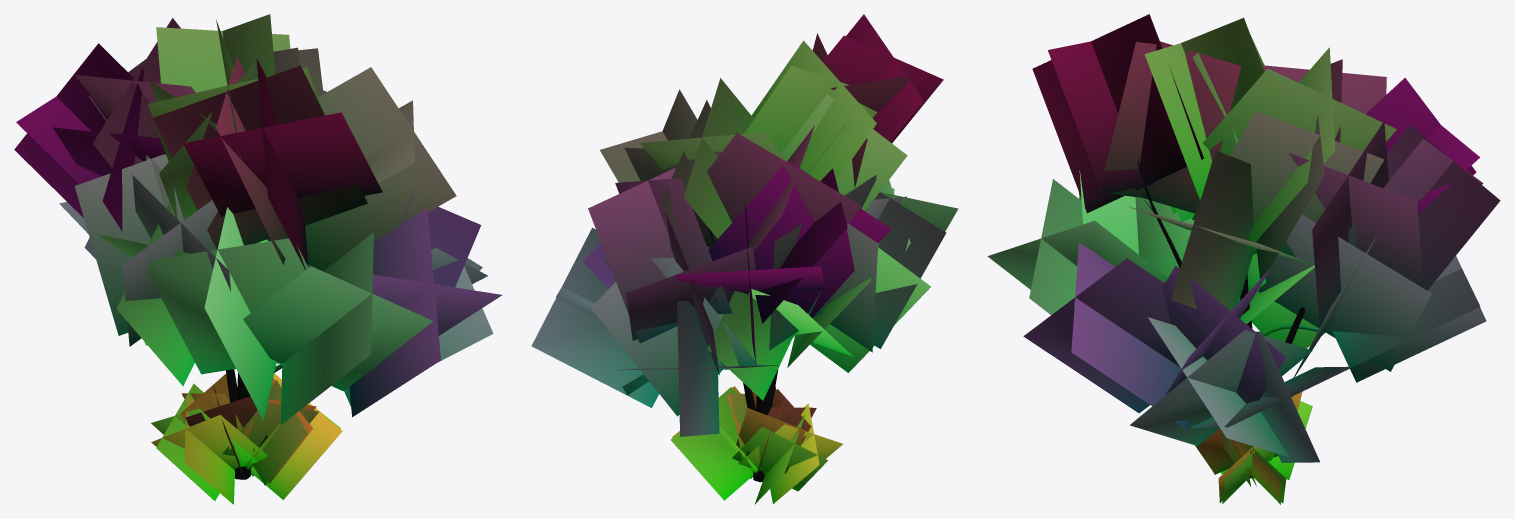
Rendered from M_P12_Tree_10.fbx.
3 renders of one model, left to right at view 1: azimuth 30°, elevation 25°; view 2: azimuth 150°, elevation 25°; view 3: azimuth 270°, elevation 25°, orthographic. The views are drawn at different scales.
Visible parts, largest first — view 1: Tree_10; view 2: Tree_10; view 3: Tree_10.
Boxes of the visible parts, left/top/right/bottom form: Tree_10: left=14, top=14, right=502, bottom=504; Tree_10: left=531, top=14, right=958, bottom=504; Tree_10: left=987, top=14, right=1500, bottom=504.
Bounding box in the file's own units: 189 × 221 × 223.
